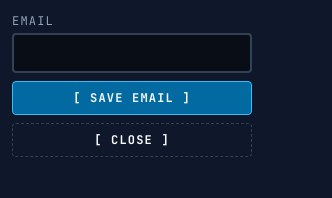
Test case: AddEmail › rejects a malformed email without calling the server
This screenshot has width=332, height=198.
Step 1. Type "nope" into the field labelled "Email" → (132,53), box [12,33,252,73]
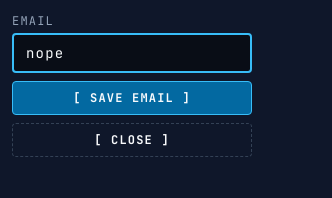
Step 2. Click the button "[ Save email ]" → (132,98), box [12,81,252,115]
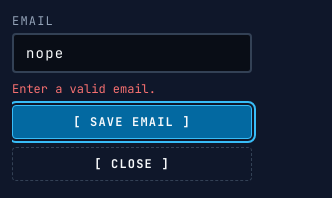
Expected: the message reads "Enter a valid email.", [12,81,156,97]
